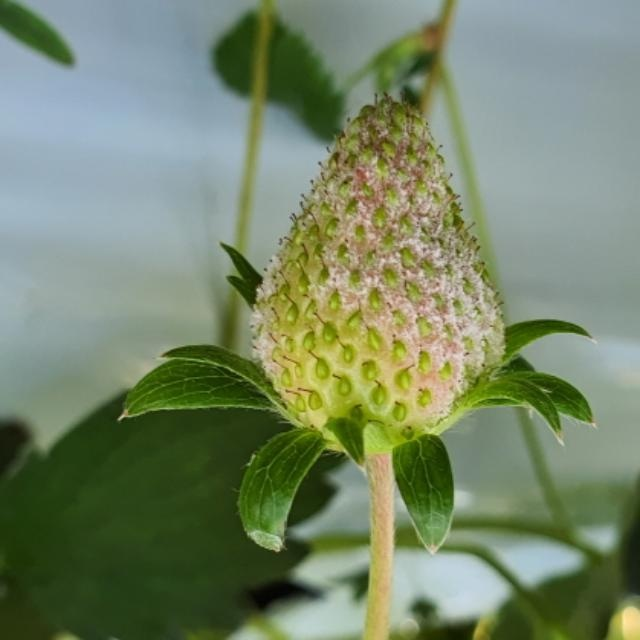Powdery Mildew Fruit: (250, 96, 508, 449)
